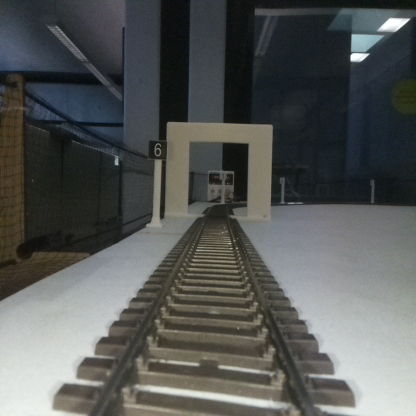black-info-6: (148, 141, 167, 224)
